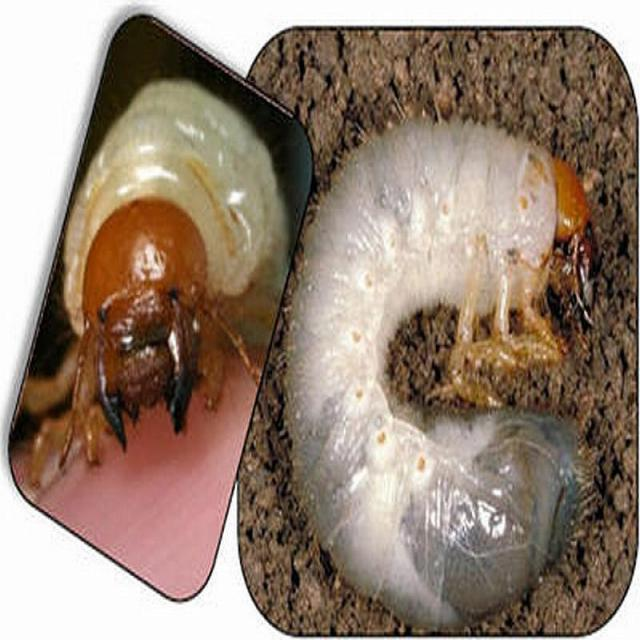Grub-Adult-: (268, 109, 596, 622)
